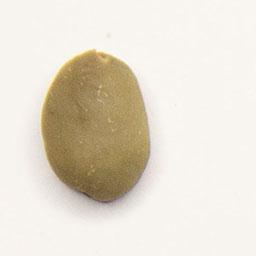premium: (38, 46, 154, 205)
